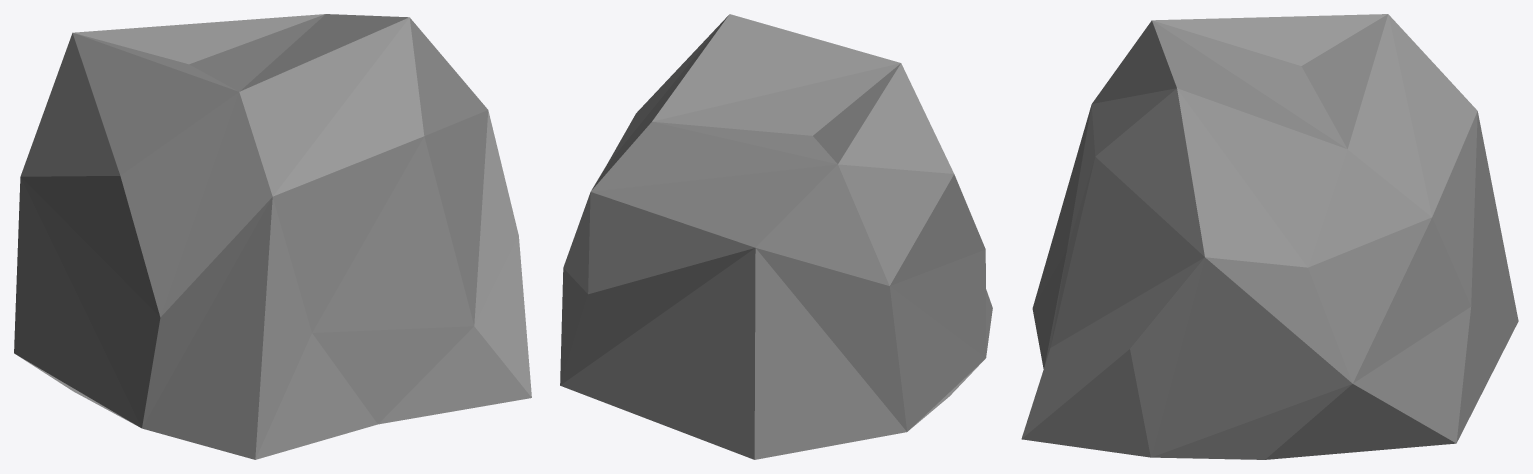
The model's file is Stone_3.fbx.
3 renders of one model, left to right at view 1: azimuth 30°, elevation 25°; view 2: azimuth 150°, elevation 25°; view 3: azimuth 270°, elevation 25°, orthographic. The views are drawn at different scales.
Parts seen in each view (by area): view 1: Stone.002; view 2: Stone.002; view 3: Stone.002.
Boxes of the visible parts, <box> form: Stone.002: <box>14,14,531,459</box>; Stone.002: <box>560,14,992,459</box>; Stone.002: <box>1021,14,1518,459</box>.
Bounding box in the file's own units: 1.6 × 1.27 × 1.74.
